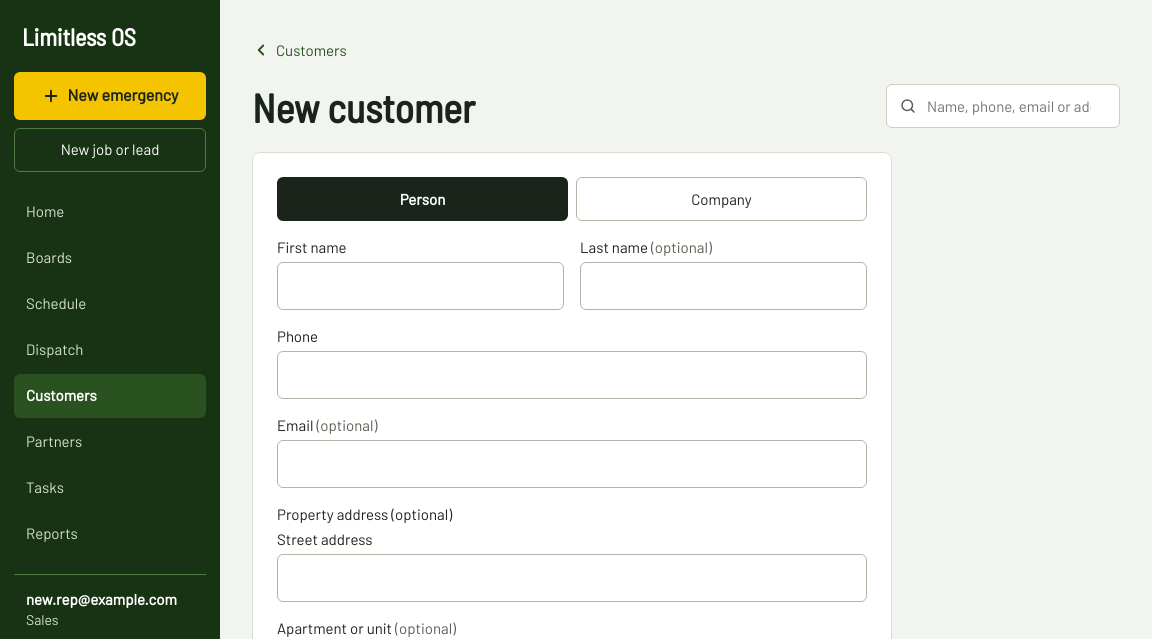
Scenario: New customer › says when the duplicate check could not run
Type "610-555-0199" into the field labelled "Phone" at coordinates (572, 375), box [277,351,867,399]
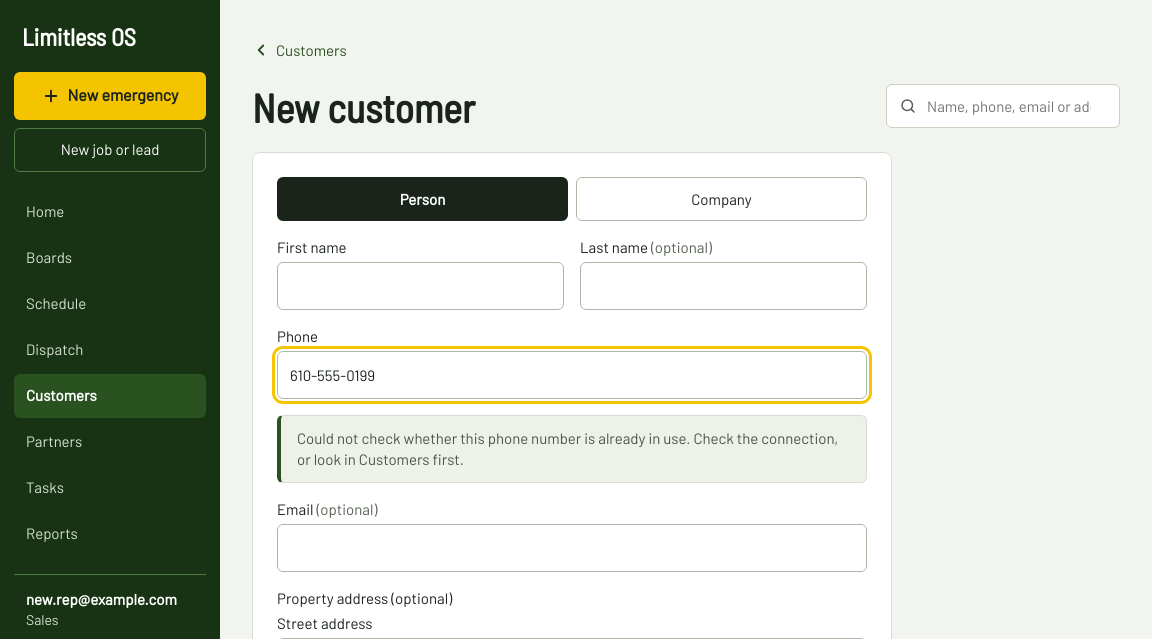
Expected: the message shows "Could not check whether this phone number is already in use.", [297,429,838,468]
